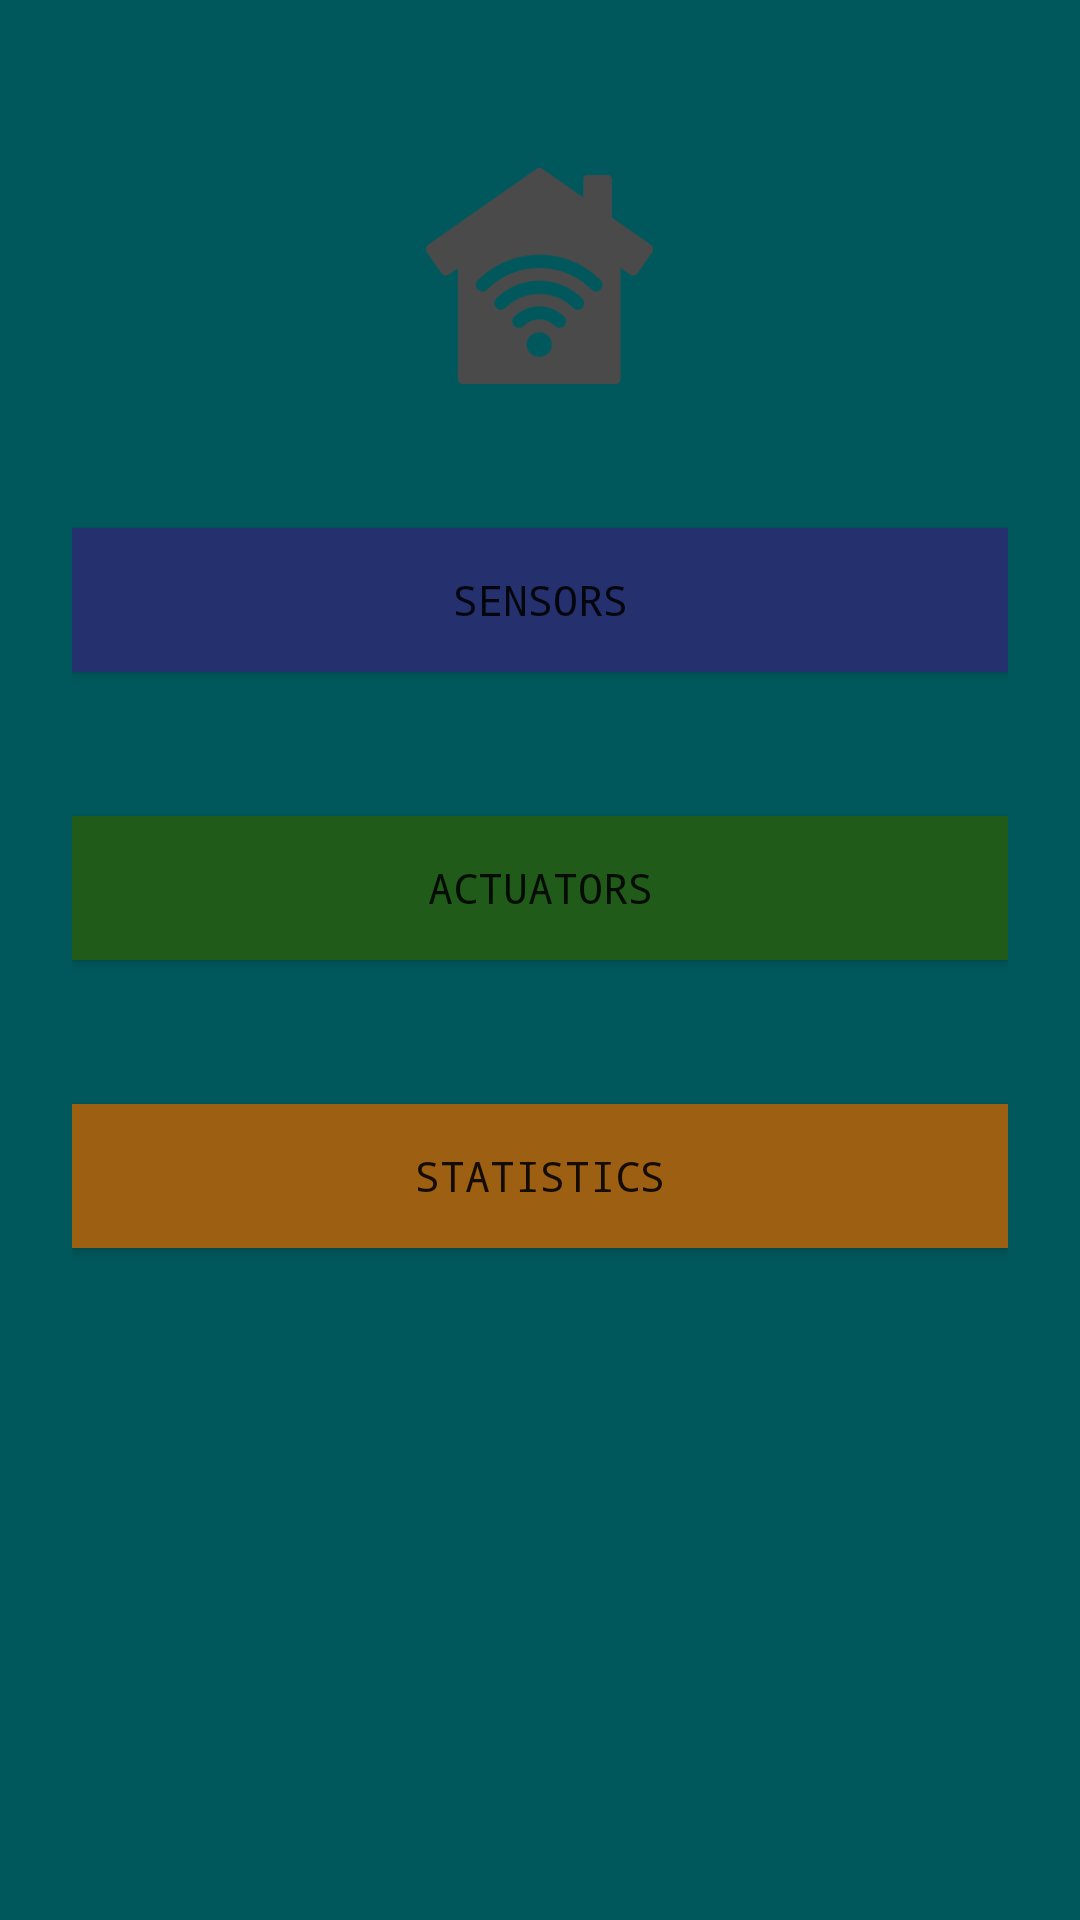

Point at icon controls on the screen. Image size 1080px×1920px, points as (x,y).
homeicon: (539,276)
